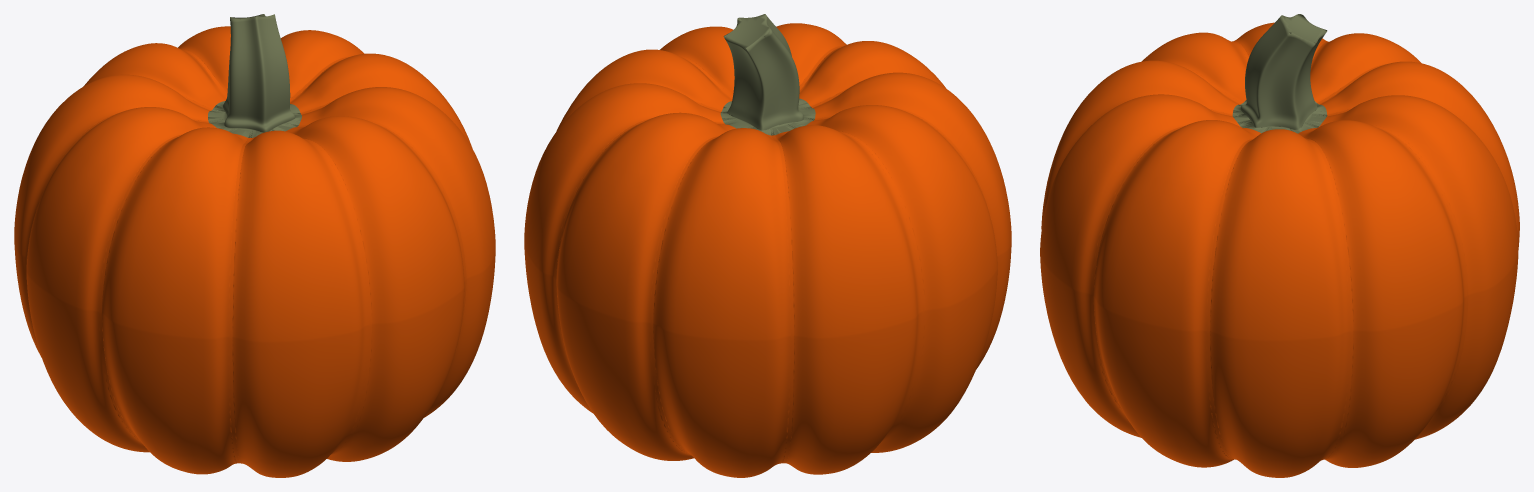
The model's file is The-Great-Pumpkin-UNCARVED.glb.
3 renders of one model, left to right at view 1: azimuth 30°, elevation 25°; view 2: azimuth 150°, elevation 25°; view 3: azimuth 270°, elevation 25°, orthographic.
Visible parts, largest first — view 1: Pumpkin.000, Stem.000; view 2: Pumpkin.000, Stem.000; view 3: Pumpkin.000, Stem.000.
Boxes of the visible parts, x1,y1,x2,y2 form: Pumpkin.000: (14, 26, 495, 477); Stem.000: (208, 14, 301, 137); Pumpkin.000: (524, 23, 1011, 477); Stem.000: (720, 14, 815, 135); Pumpkin.000: (1040, 22, 1519, 477); Stem.000: (1232, 14, 1327, 133).
Bounding box in the file's own units: 7.98 × 7.41 × 7.88.
